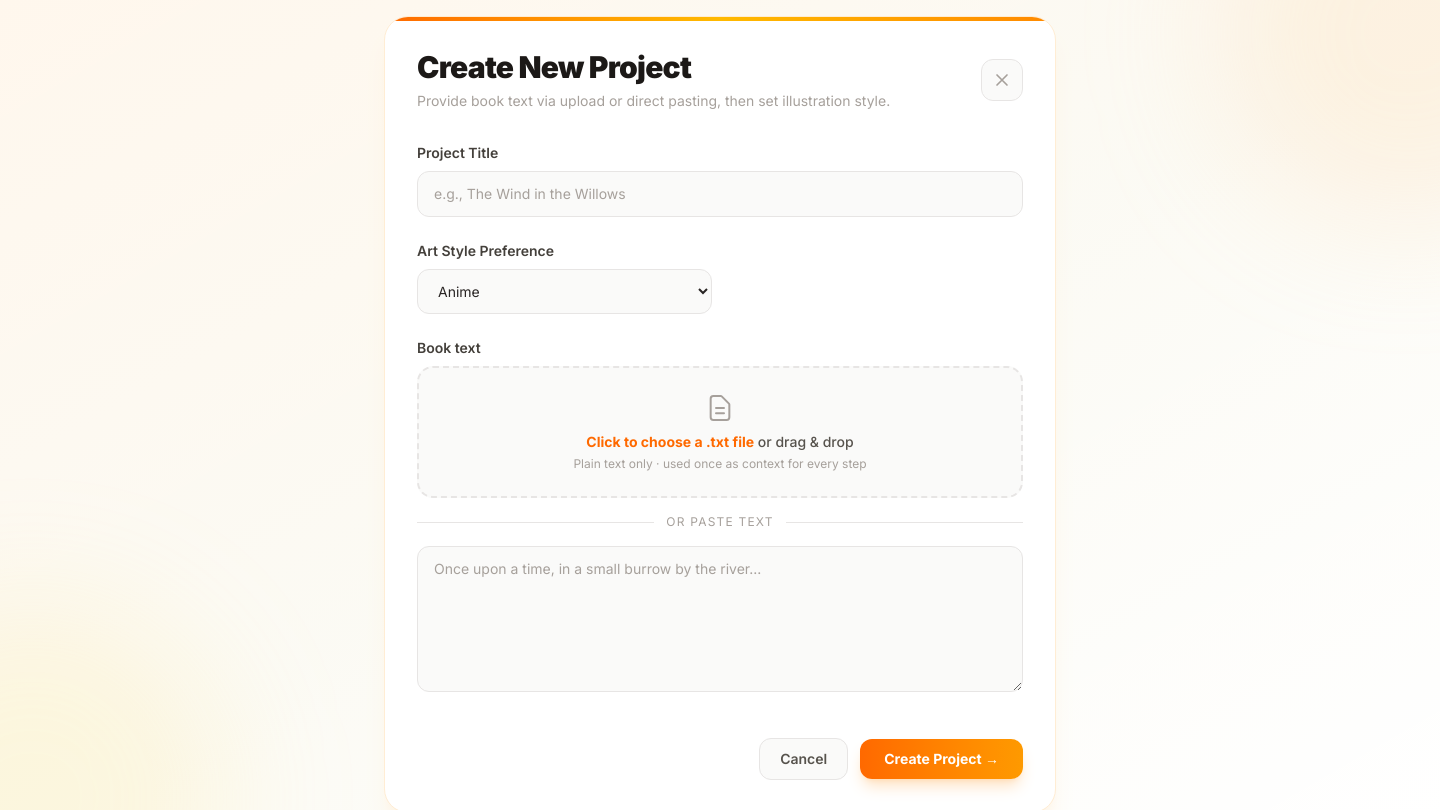
NewProjectPage › should show a validation message if submitting without a book file
Note: Fill title
Type "My Book Project" into the field labelled "Project Title" at point(720, 194), box [417, 171, 1023, 217]
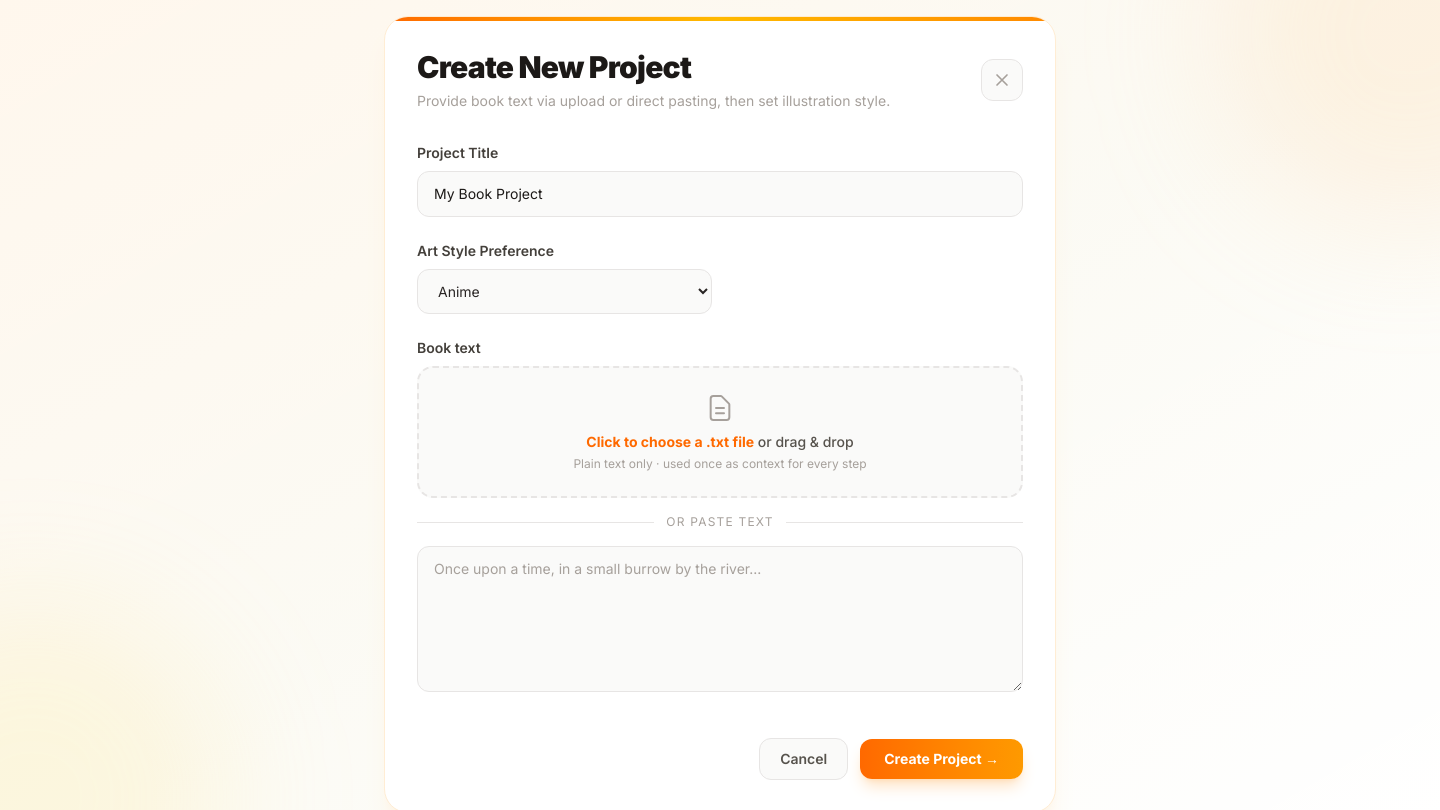
Click the button "Create Project →" at point(942, 759), box [860, 739, 1023, 779]
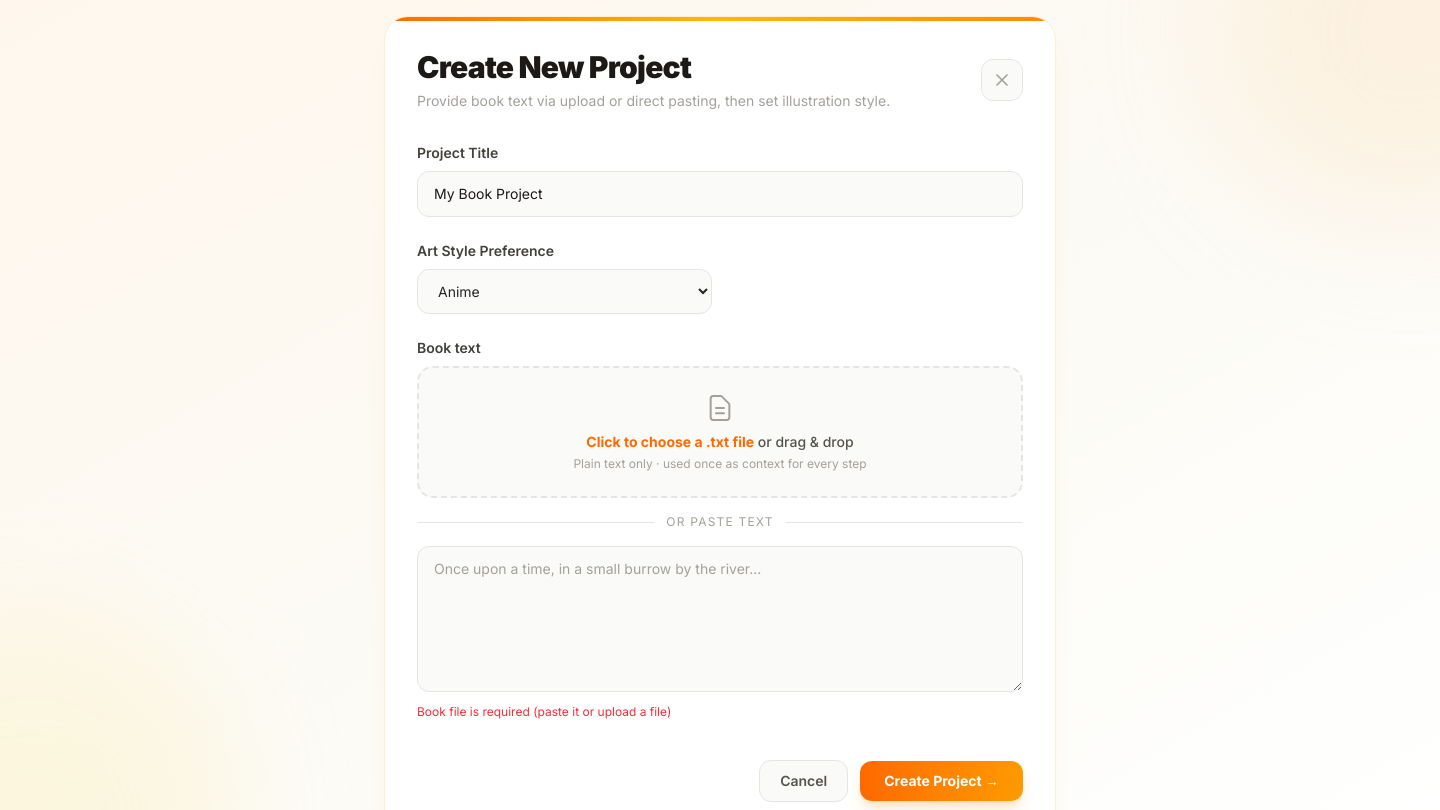
Result: the text "Book file is required (paste it or upload a file)" is shown at [417, 704, 671, 719]
